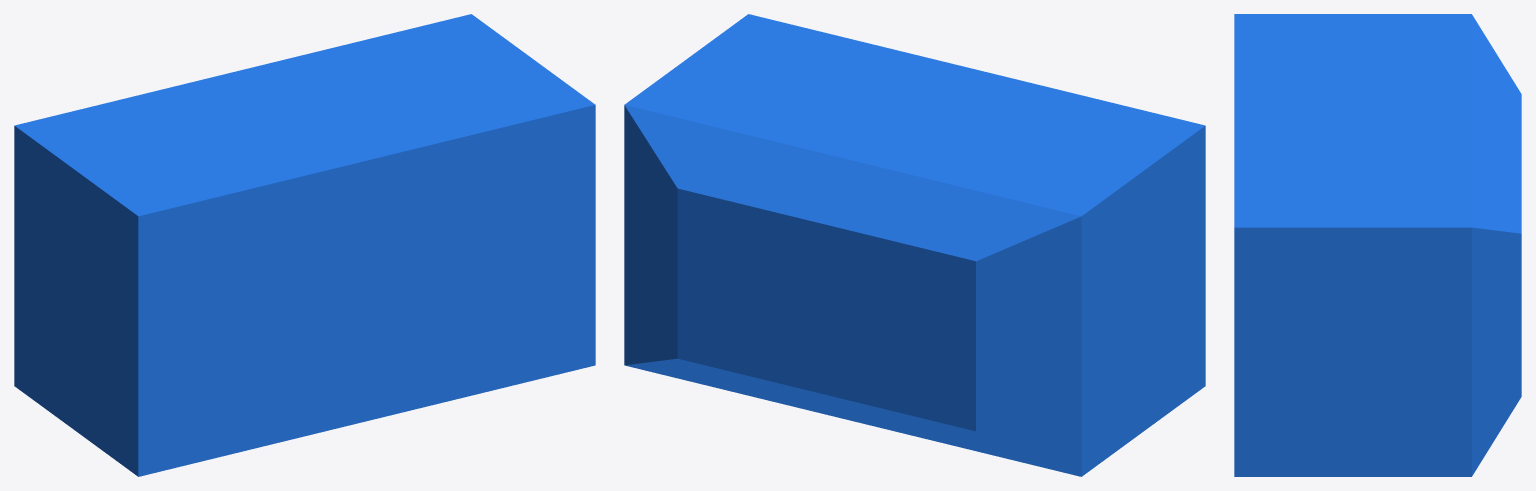
The model's file is brick1.fbx.
The picture shows the model from 3 angles, left to right: view 1: azimuth 30°, elevation 25°; view 2: azimuth 150°, elevation 25°; view 3: azimuth 270°, elevation 25°; orthographic projection. The views are drawn at different scales.
Parts seen in each view (by area): view 1: Cube; view 2: Cube; view 3: Cube.
Part boxes in pixels (left/top/right/bottom): Cube: left=14, top=14, right=595, bottom=476; Cube: left=624, top=14, right=1205, bottom=476; Cube: left=1234, top=14, right=1521, bottom=476.
Size of the model in its own units: 5190 by 2827 by 2953.
